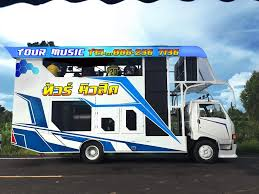truck: (10, 46, 238, 162)
